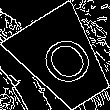O_SE: (28, 27, 98, 93)
